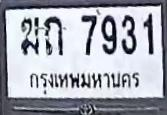1: (142, 12, 152, 54)
3: (120, 14, 136, 54)
7: (80, 14, 96, 55)
9: (101, 14, 116, 54)
A06: (20, 16, 40, 55)
A22: (44, 15, 64, 55)
BKK: (27, 68, 142, 96)
